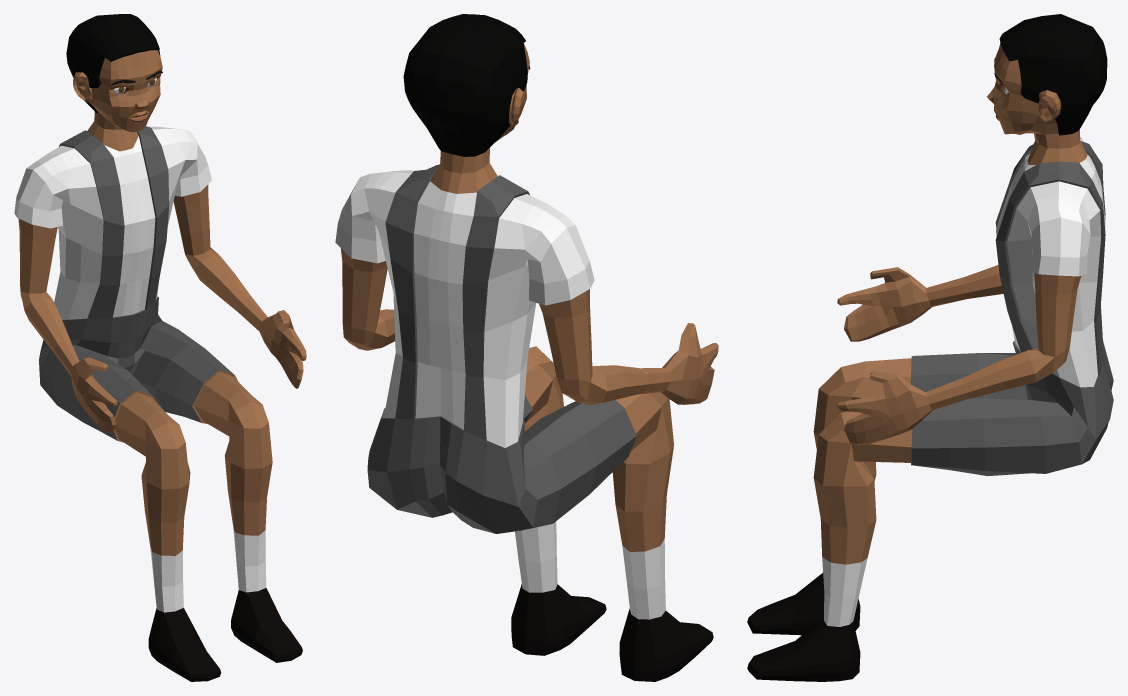
File: Child_A_Sit.fbx
3 renders of one model, left to right at view 1: azimuth 30°, elevation 25°; view 2: azimuth 150°, elevation 25°; view 3: azimuth 270°, elevation 25°, orthographic. The views are drawn at different scales.
Parts seen in each view (by area): view 1: Child_A_Sit; view 2: Child_A_Sit; view 3: Child_A_Sit.
Part boxes in pixels (x1,y1,x2,y2): Child_A_Sit: (14,14,306,681); Child_A_Sit: (335,14,718,681); Child_A_Sit: (747,14,1113,681).
Size of the model in its own units: 0.1752 by 0.4403 by 0.2326.
